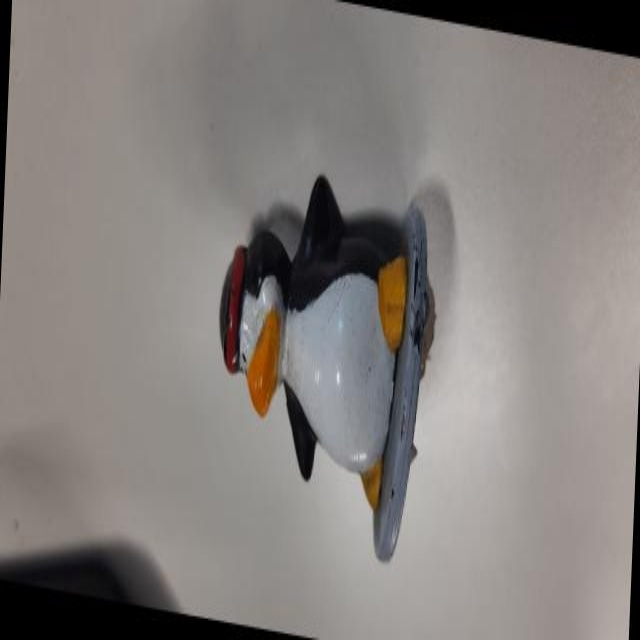Penguin: (201, 146, 449, 589)
